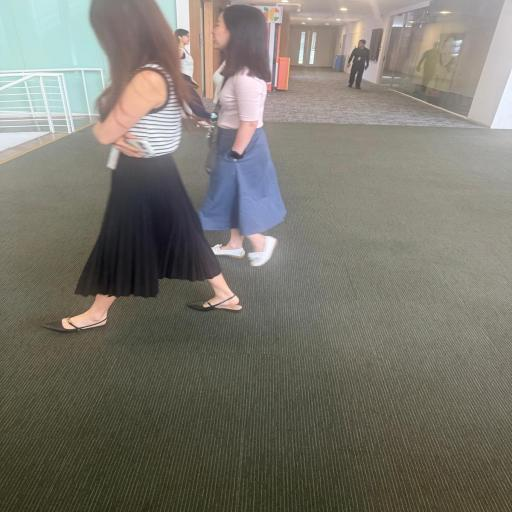person_left: (41, 0, 243, 333), (196, 4, 286, 267)
person_right: (174, 29, 216, 128)
